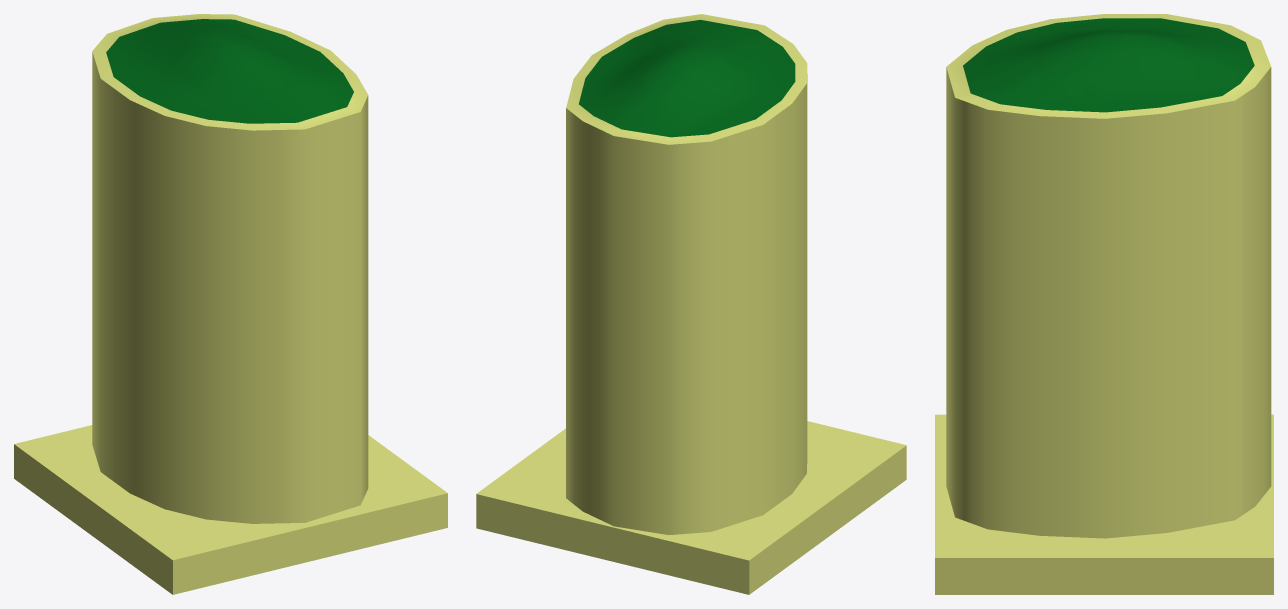
The model's file is Wild_Little_Island_01.fbx.
3 renders of one model, left to right at view 1: azimuth 30°, elevation 25°; view 2: azimuth 150°, elevation 25°; view 3: azimuth 270°, elevation 25°, orthographic. The views are drawn at different scales.
Visible parts, largest first — view 1: Wild_Little_Island_01; view 2: Wild_Little_Island_01; view 3: Wild_Little_Island_01.
Boxes of the visible parts, <box> form: Wild_Little_Island_01: <box>14,14,447,594</box>; Wild_Little_Island_01: <box>476,14,906,594</box>; Wild_Little_Island_01: <box>935,14,1273,594</box>.
Bounding box in the file's own units: 34.03 × 53.92 × 34.03.
